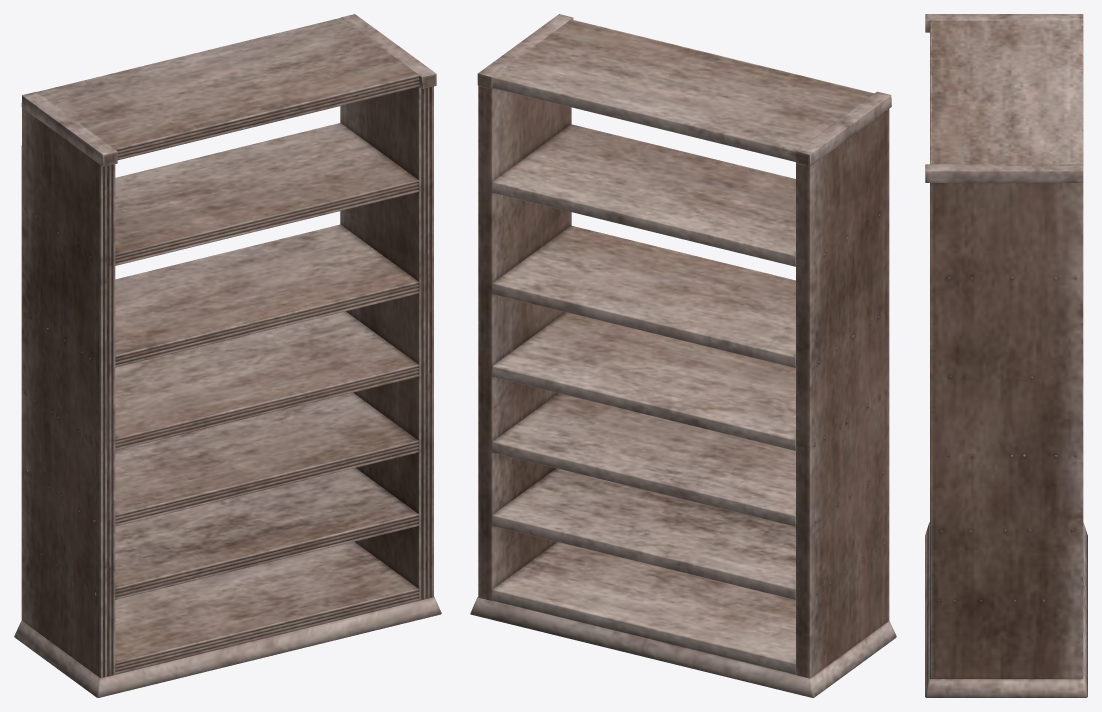
The model's file is wooden_bookshelf_worn.lod1.glb.
3 views of the same model, side by side, from view 1: azimuth 30°, elevation 25°; view 2: azimuth 150°, elevation 25°; view 3: azimuth 270°, elevation 25° (orthographic). The views are drawn at different scales.
Visible parts, largest first — view 1: wooden_bookshelf_worn; view 2: wooden_bookshelf_worn; view 3: wooden_bookshelf_worn.
Part boxes in pixels (left/top/right/bottom): wooden_bookshelf_worn: left=14, top=14, right=441, bottom=697; wooden_bookshelf_worn: left=470, top=14, right=896, bottom=697; wooden_bookshelf_worn: left=925, top=14, right=1087, bottom=697.
Size of the model in its own units: 1.37 by 2.06 by 0.5813.
1 material, 1 textured.
